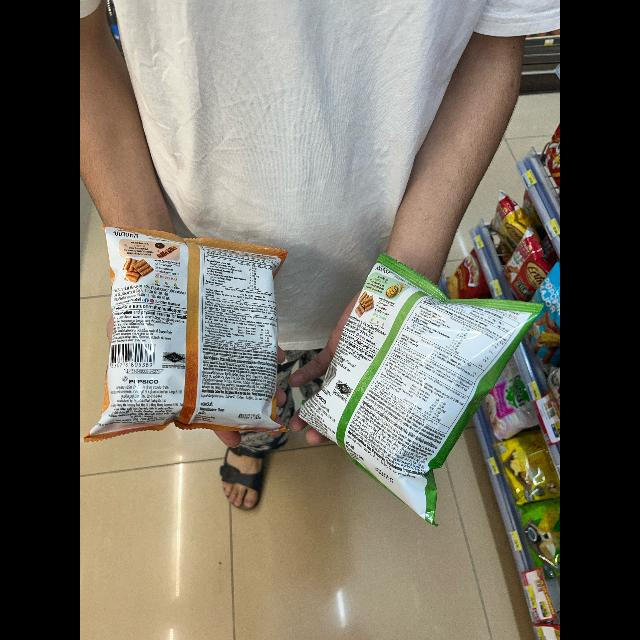snack_bag: (292, 262, 548, 530), (91, 218, 297, 442)
